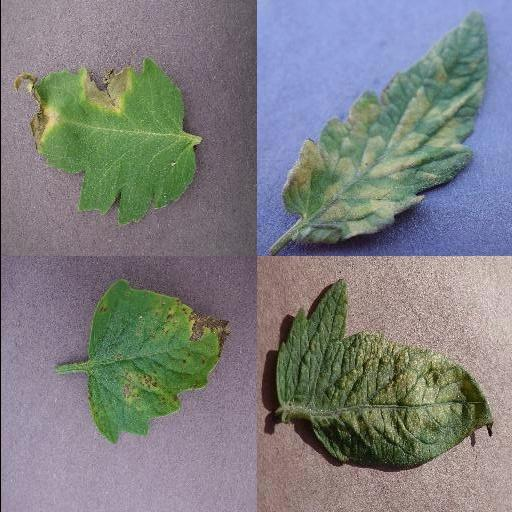Late Blight: (11, 54, 197, 226)
Leaf Mold: (279, 14, 487, 242)
Septoria: (84, 281, 232, 445)
Spider Mites: (277, 279, 491, 469)
